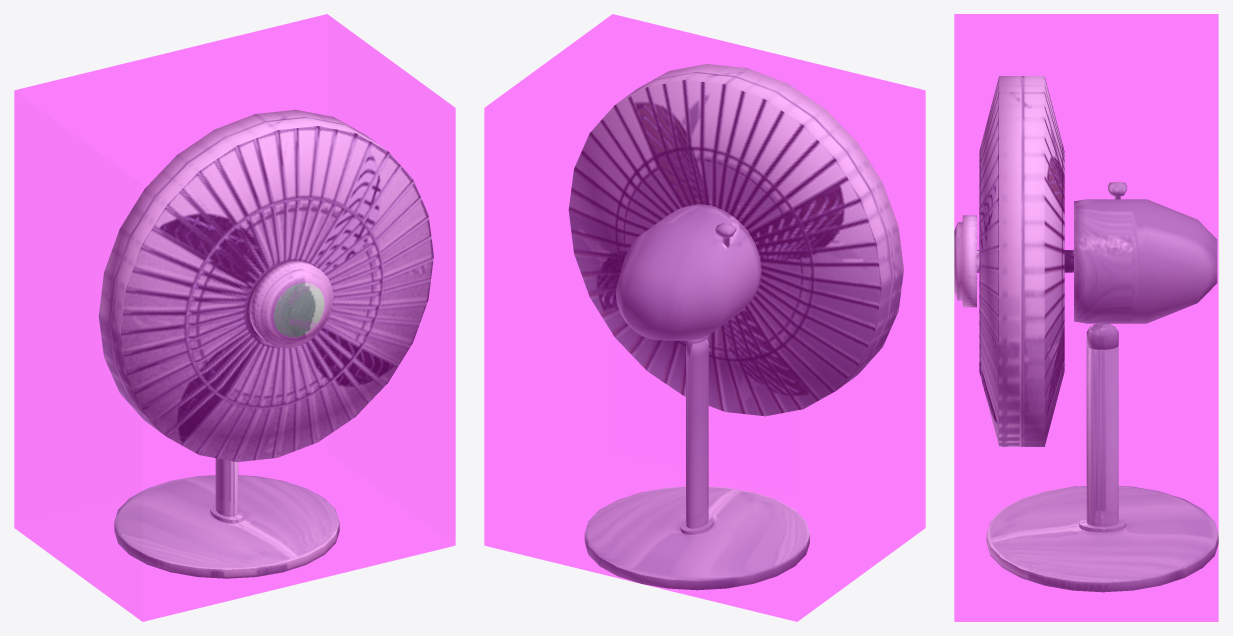
File: fan.fbx
3 views of the same model, side by side, from view 1: azimuth 30°, elevation 25°; view 2: azimuth 150°, elevation 25°; view 3: azimuth 270°, elevation 25° (orthographic). The views are drawn at different scales.
Visible parts, largest first — view 1: fan_boundingBox, fan; view 2: fan_boundingBox, fan; view 3: fan_boundingBox, fan.
Part boxes in pixels (left/top/right/bottom): fan_boundingBox: left=14, top=14, right=455, bottom=621; fan: left=98, top=109, right=433, bottom=578; fan_boundingBox: left=484, top=14, right=925, bottom=621; fan: left=568, top=64, right=903, bottom=590; fan_boundingBox: left=954, top=14, right=1218, bottom=621; fan: left=954, top=76, right=1218, bottom=592.
Size of the model in its own units: 0.4025 by 0.5375 by 0.286.
2 materials, 1 textured.
